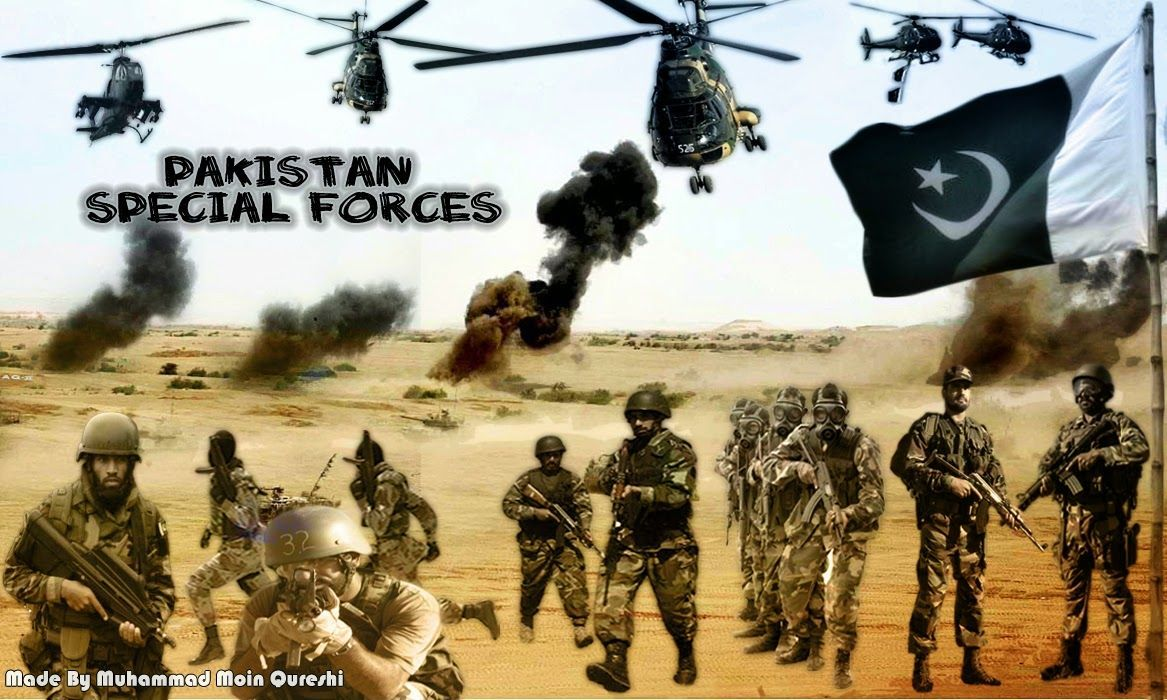gun: (19, 501, 180, 648), (927, 438, 1049, 555), (243, 558, 371, 662), (793, 428, 874, 573), (509, 471, 591, 553), (596, 429, 632, 604)
uniform: (582, 422, 711, 667), (30, 487, 167, 690), (903, 407, 1006, 670), (1048, 406, 1145, 674), (332, 465, 451, 620), (789, 423, 864, 657), (194, 472, 269, 656), (509, 460, 590, 627)
